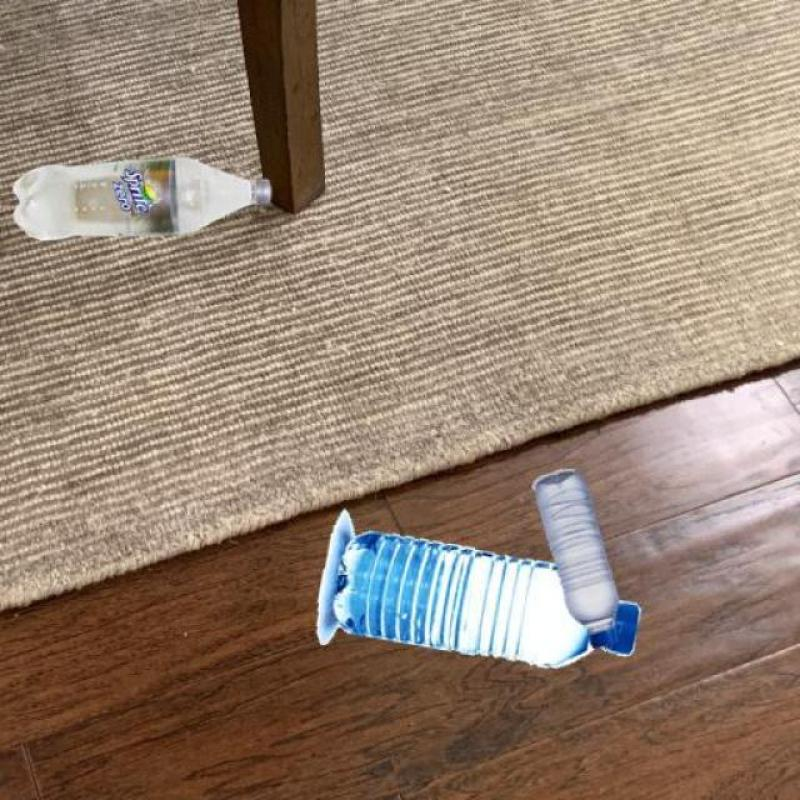botella: (331, 529, 642, 672), (13, 156, 276, 245), (528, 463, 622, 651)
